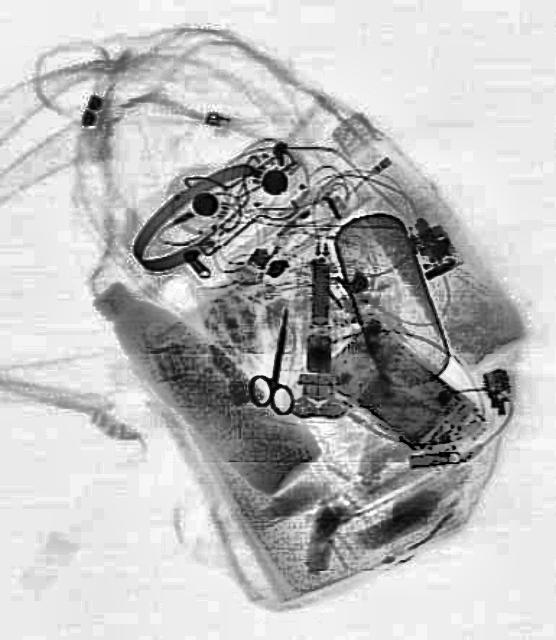Scissors: (245, 304, 307, 416)
